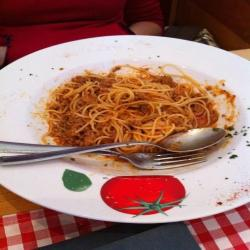bolonese_pasta: (41, 67, 238, 173)
